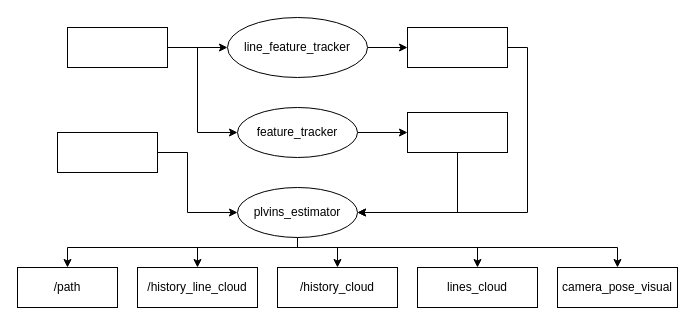
This 695x325 diagram has some shape labels left out. Each missing label, with the centre of its shape:
"/feature" belongs at point 457,132.
"/image_raw" belongs at point 117,47.
"/imu" belongs at point 107,152.
"/linefeature" belongs at point 457,47.
